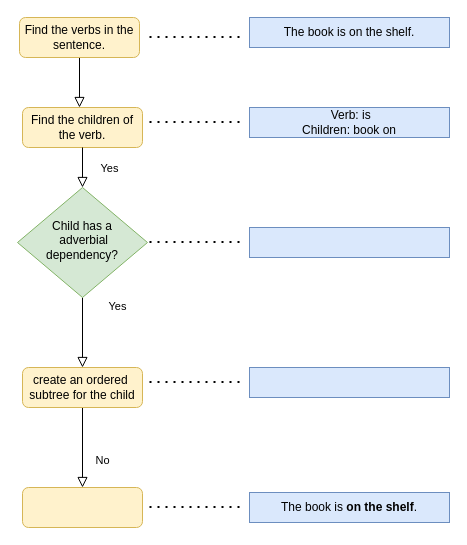
This 467x545 diagram has some shape labels left out. Each missing label, with the centre of its shape:
Extract span based on ordered subtree: pixel 82 507
on the shelf: pixel 349 382
prep - prepositional modifier: pixel 349 242
